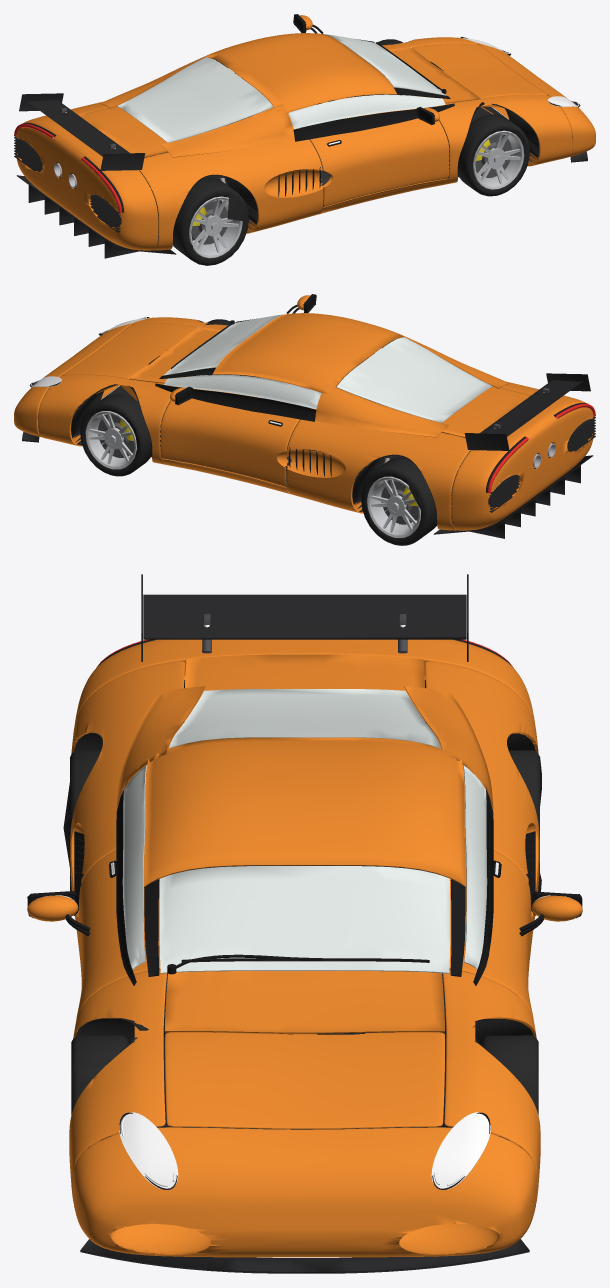
File: Car5.fbx
3 renders of one model, top to bottom at view 1: azimuth 30°, elevation 25°; view 2: azimuth 150°, elevation 25°; view 3: azimuth 270°, elevation 25°, orthographic. The views are drawn at different scales.
Parts seen in each view (by area): view 1: Body, Wheel_RR.001, Wheel_FR.001; view 2: Body, Wheel_RL.001, Wheel_FL.001; view 3: Body, Wheel_FL.001, Wheel_FR.001, Wheel_RR.001, Wheel_RL.001.
Boxes of the visible parts, x1,y1,x2,y2 form: Body: (14, 14, 595, 258); Wheel_RR.001: (172, 176, 248, 265); Wheel_FR.001: (457, 114, 529, 196); Body: (14, 294, 595, 538); Wheel_RL.001: (361, 457, 437, 545); Wheel_FL.001: (80, 394, 151, 476); Body: (27, 574, 582, 1273); Wheel_FL.001: (481, 1035, 538, 1114); Wheel_FR.001: (71, 1035, 128, 1114); Wheel_RR.001: (63, 750, 101, 915); Wheel_RL.001: (508, 750, 541, 915).
Size of the model in its own units: 4.66 by 1.2 by 2.27.
